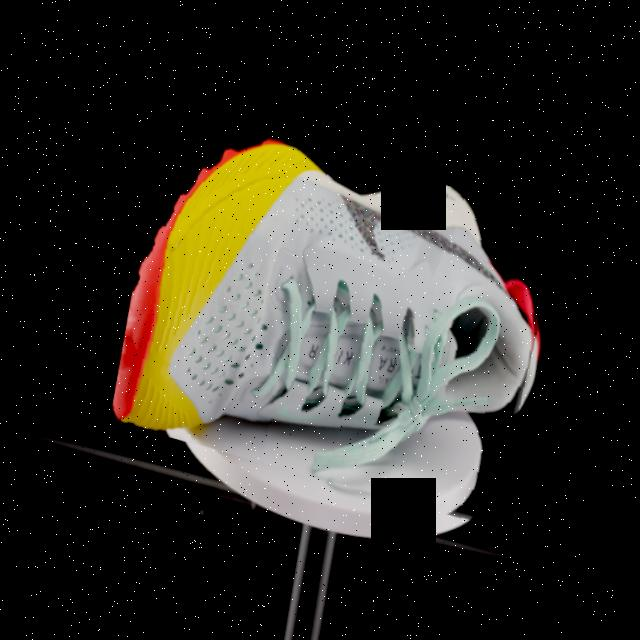shoe: (89, 96, 576, 534)
